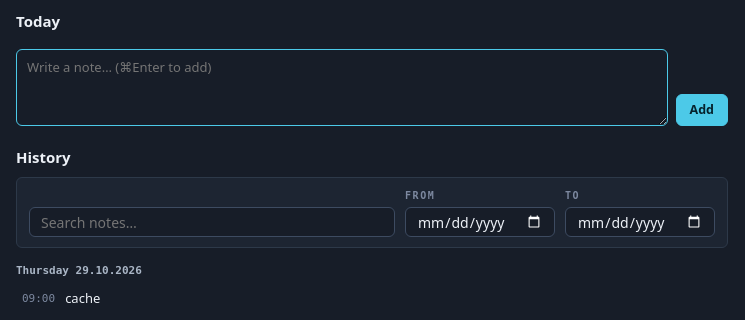
Test: status lines › a search that hides every past day says no notes match, not that there are none
Type "zzz" into the search field labelled "Search notes" at coordinates (212, 222), box [29, 207, 395, 237]
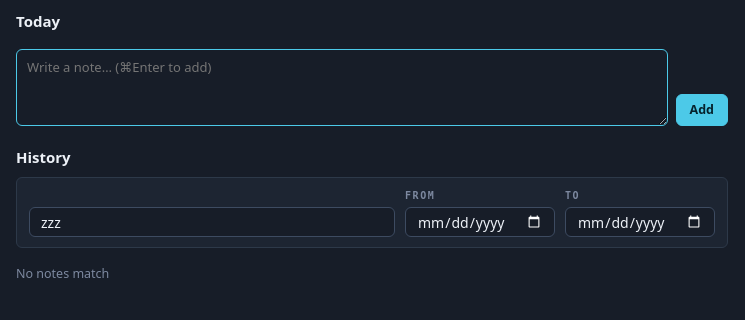
Expected: the text "No notes match" is shown, [16, 265, 109, 282]
